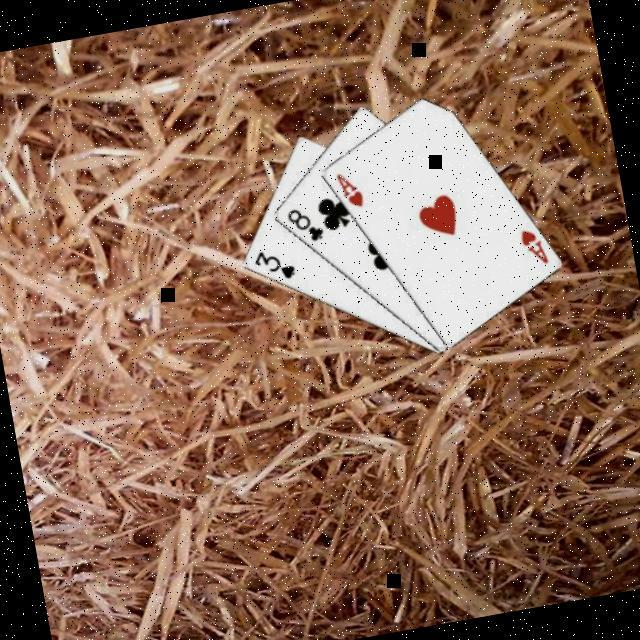3S: (251, 244, 301, 289)
8C: (284, 202, 331, 250)
AH: (517, 224, 554, 271), (333, 168, 369, 214)
